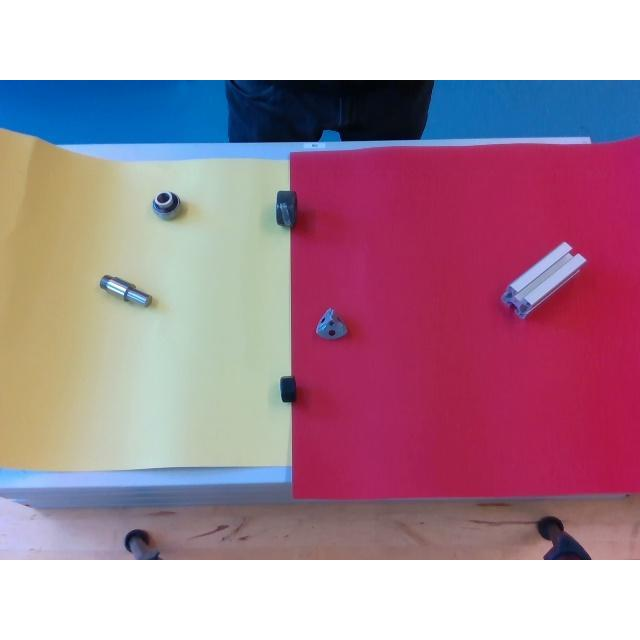AllenKey: (98, 274, 154, 308)
Bearing2: (152, 191, 184, 219)
M20: (280, 375, 298, 403)
M30: (274, 190, 298, 228)
S40_40_G: (502, 242, 586, 318)
